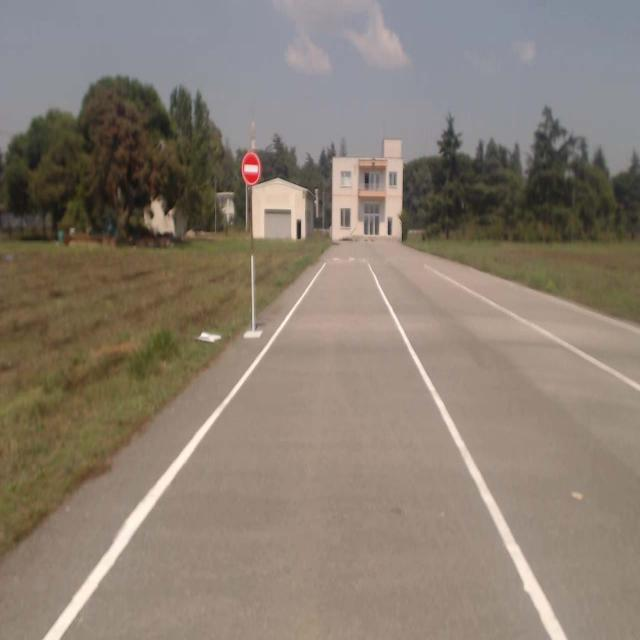girisyok: (242, 152, 262, 185)
